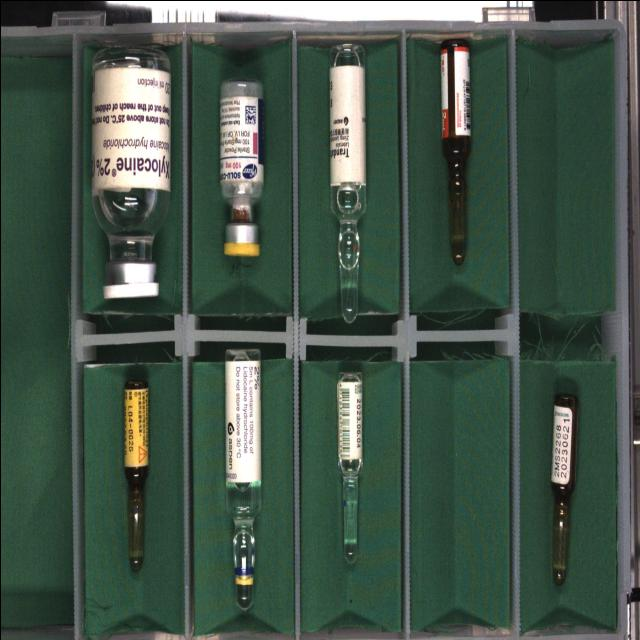Vials: (90, 46, 171, 299), (219, 79, 263, 255)
